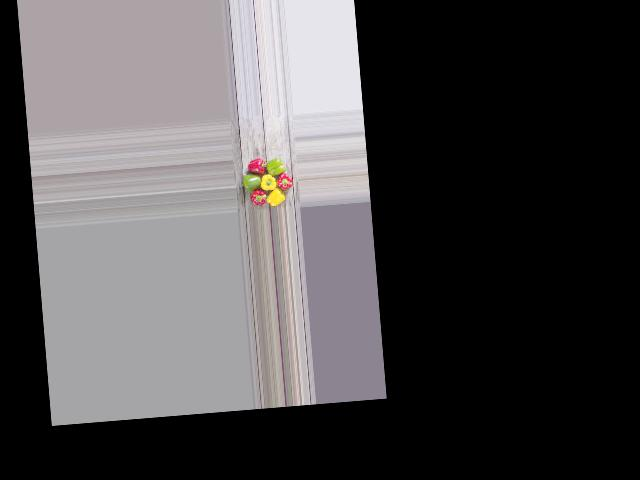bell_pepper: (250, 188, 270, 210)
